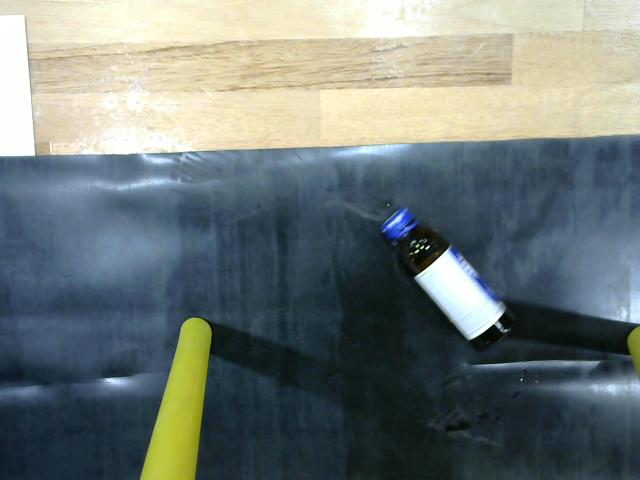glass: (376, 197, 529, 361)
